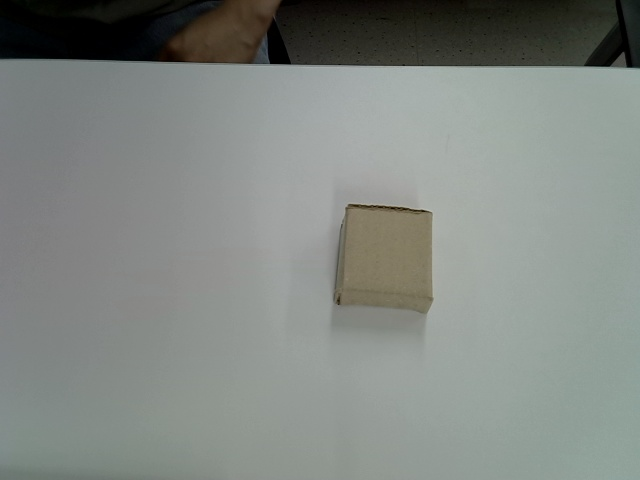normal: (334, 205, 434, 313)
